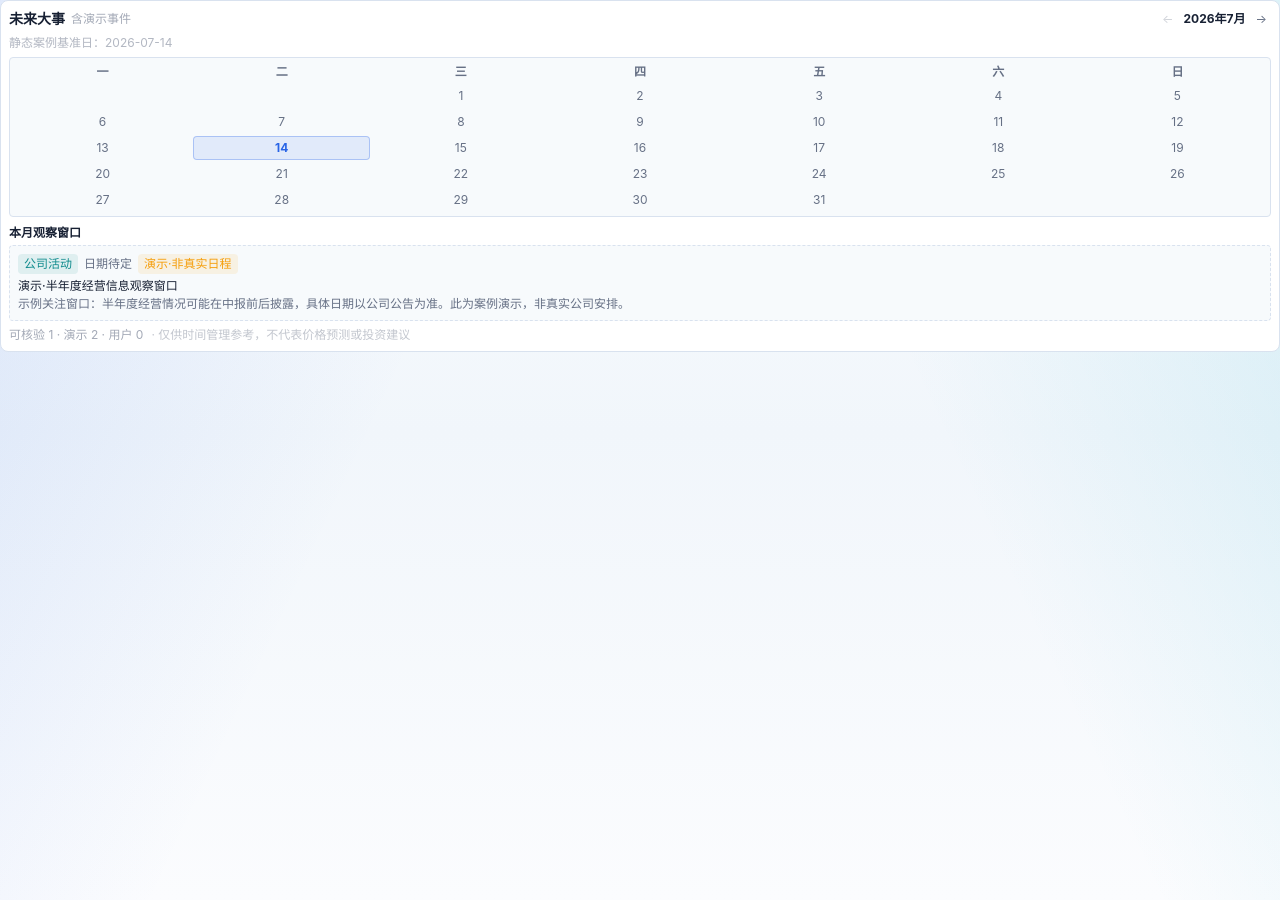
第十八阶段真实页面交互测试 › 测试 6：日历跨月切换不残留旧月份事件 › 点击 8/31 后切回 7 月，不再显示"2026-08-31 的事件"
expect the text with test id "calendar-month-label" reads "2026年7月": met, box [1184,11,1246,26]
# 切换到 2026 年 8 月
Step 1. Click the button with test id "calendar-next-month" → coordinates (1261, 19), box [1252,9,1271,29]
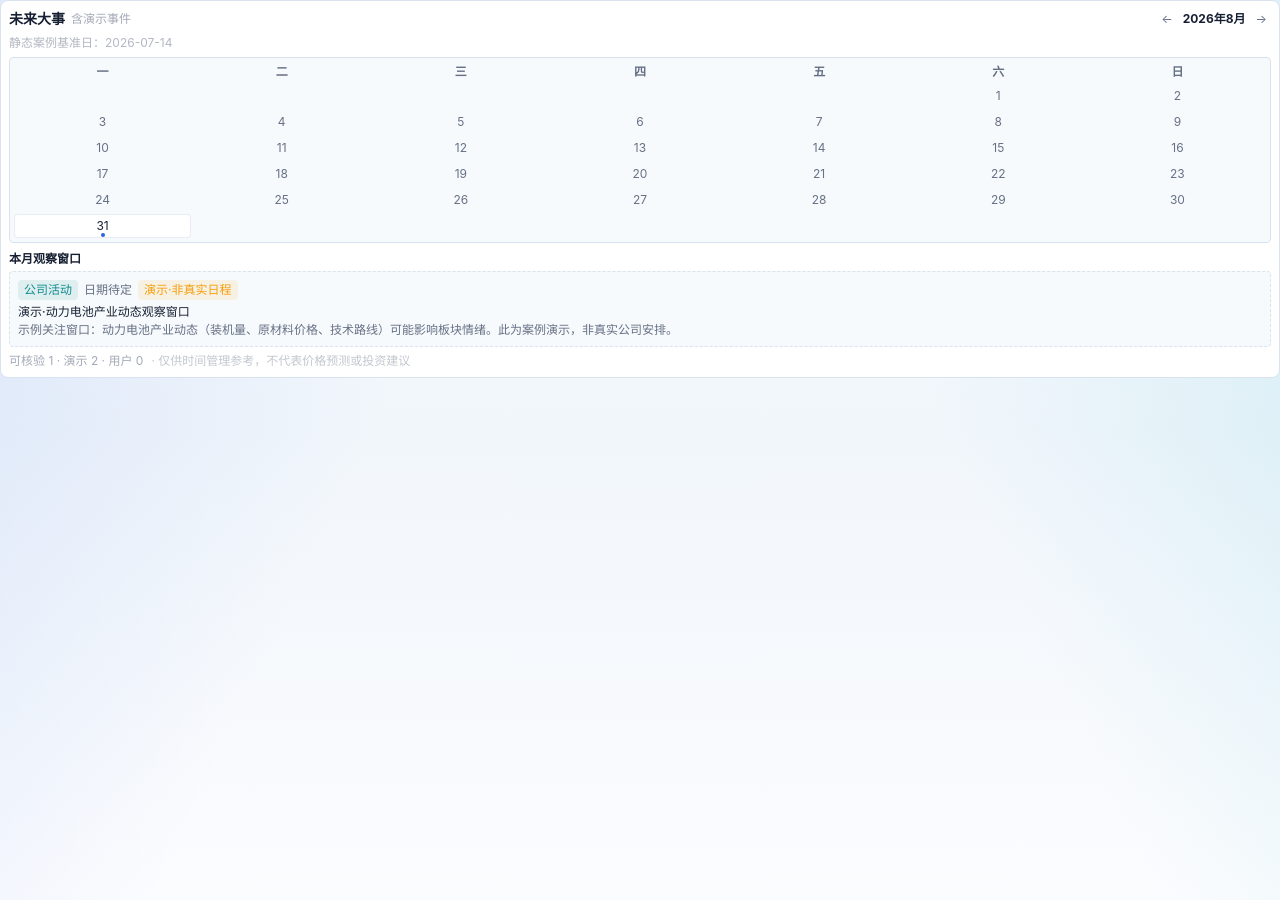
expect the text with test id "calendar-month-label" reads "2026年8月": met, box [1183,11,1246,26]
# 点击 2026-08-31 格子
Step 2. Click the button with test id "calendar-cell-2026-08-31" → coordinates (103, 226), box [14,214,191,238]
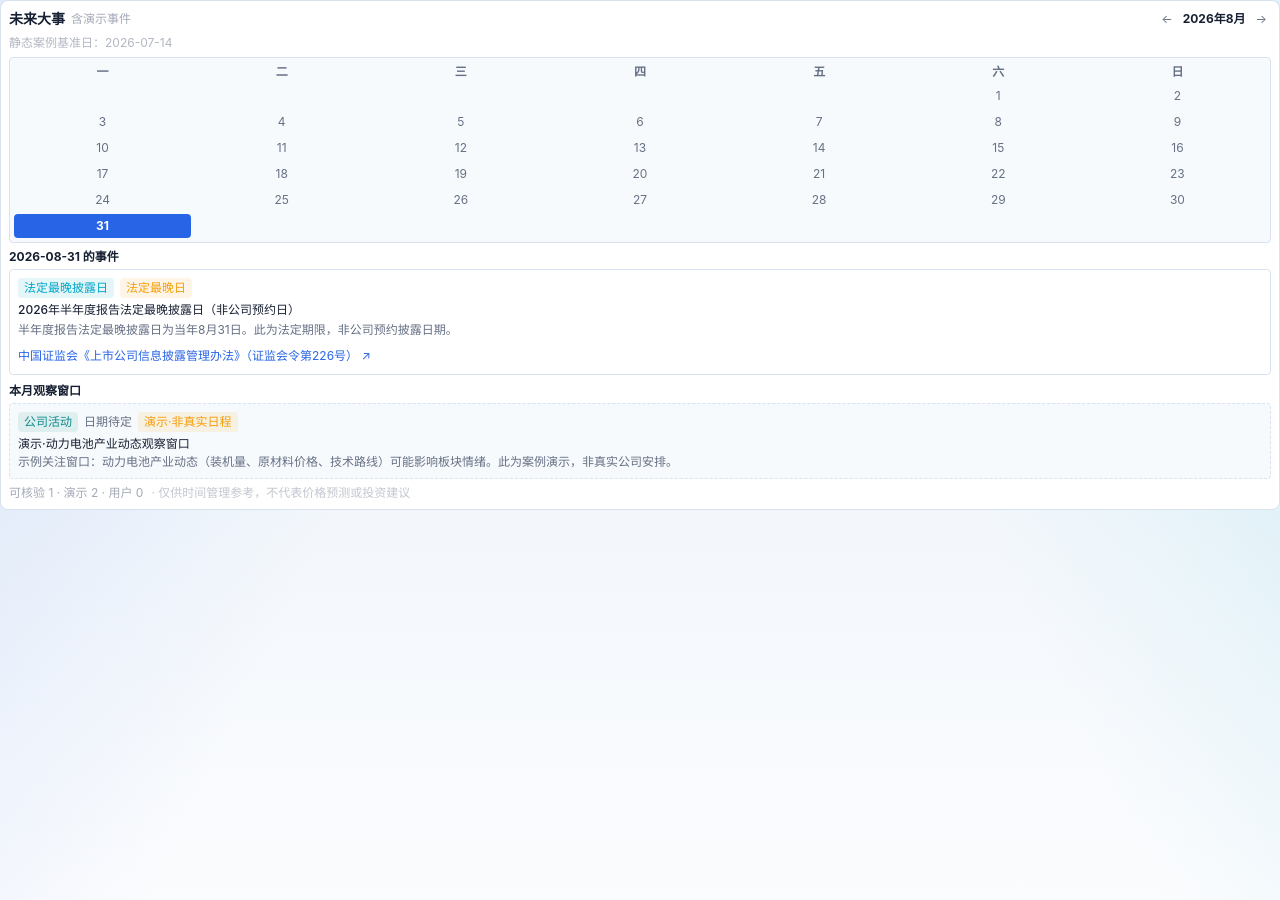
expect the element with test id "selected-date-events" is shown: met, box [9,249,1271,375]
expect the element with test id "selected-date-events" shows "2026-08-31": met, box [9,249,80,264]
# 切回 2026 年 7 月
Step 3. Click the button with test id "calendar-prev-month" → coordinates (1167, 19), box [1157,9,1177,29]
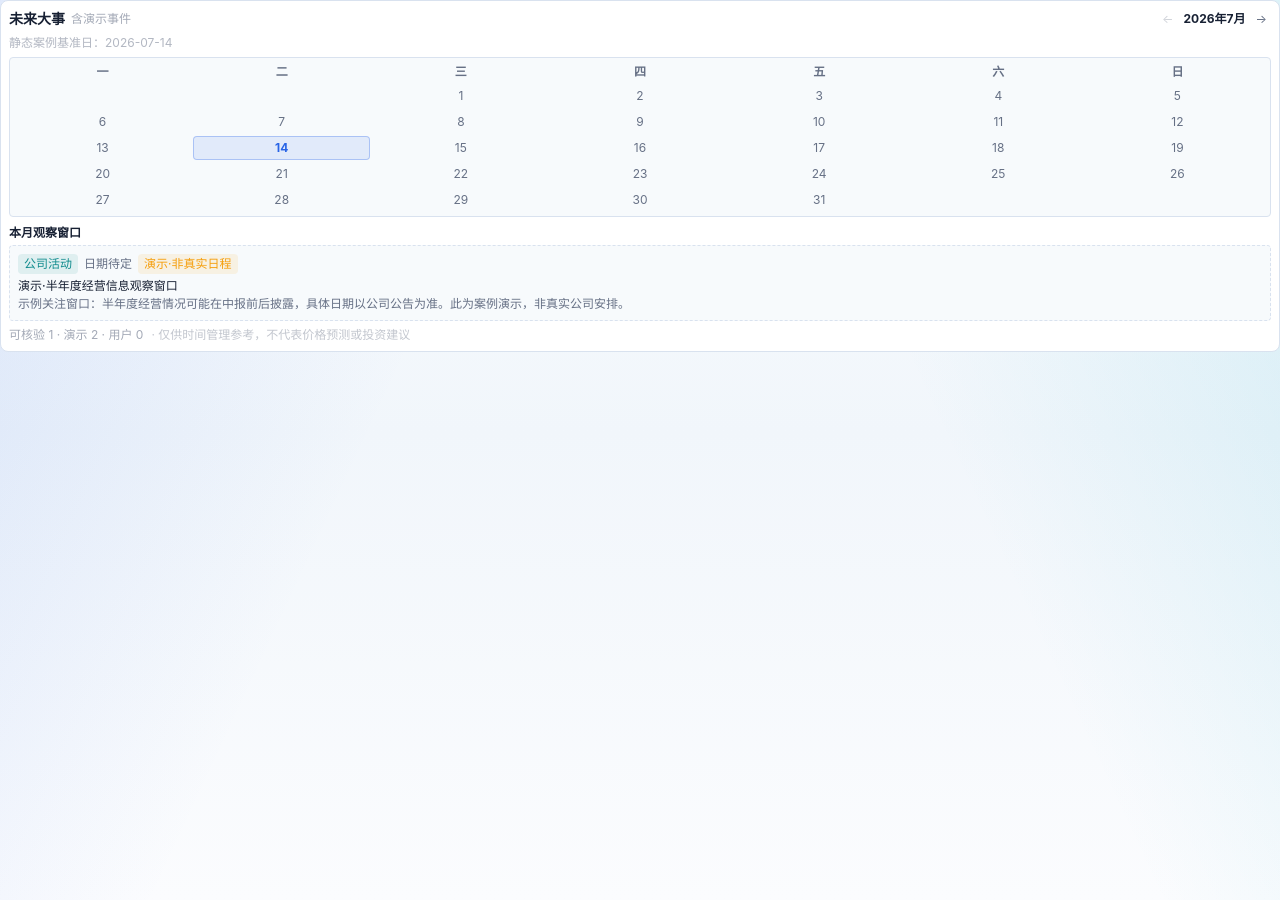
expect the text with test id "calendar-month-label" reads "2026年7月": met, box [1184,11,1246,26]
expect the element with test id "selected-date-events" is gone: met
expect the button with test id "calendar-cell-2026-07-" is shown: met
Step 4. Click the button with test id "calendar-cell-2026-07-01" → coordinates (461, 96), box [372,84,549,108]
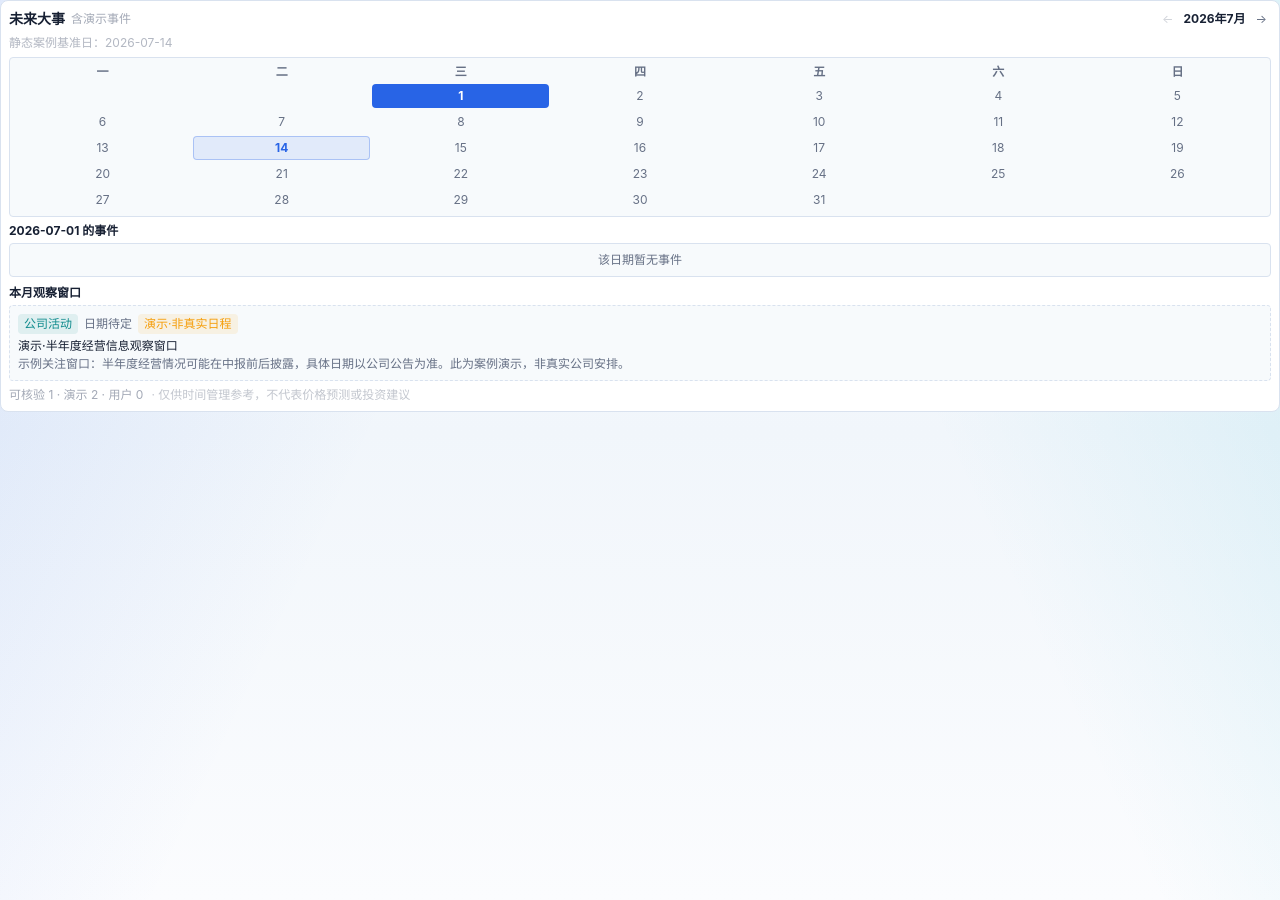
expect the element with test id "selected-date-events" is shown: met, box [9,223,1271,277]
expect the element with test id "selected-date-events" shows "2026-07-01": met, box [9,223,79,238]
